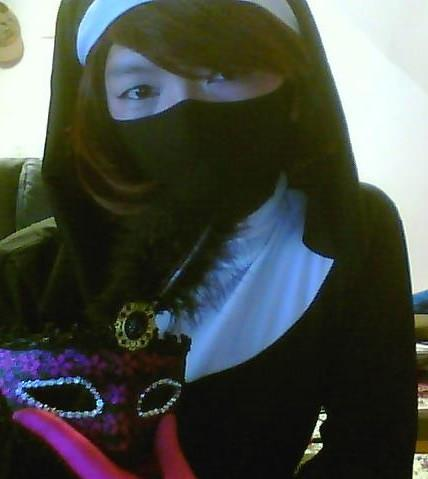OK: (108, 26, 302, 220)
